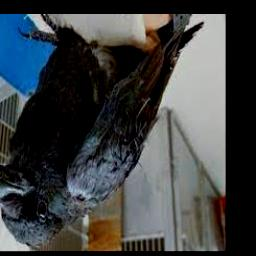Crow: (0, 16, 204, 248)
